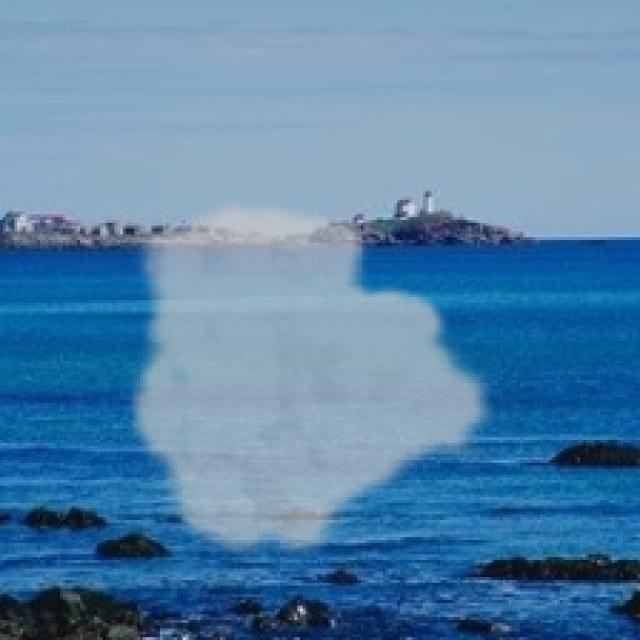smoke: (126, 197, 500, 566)
